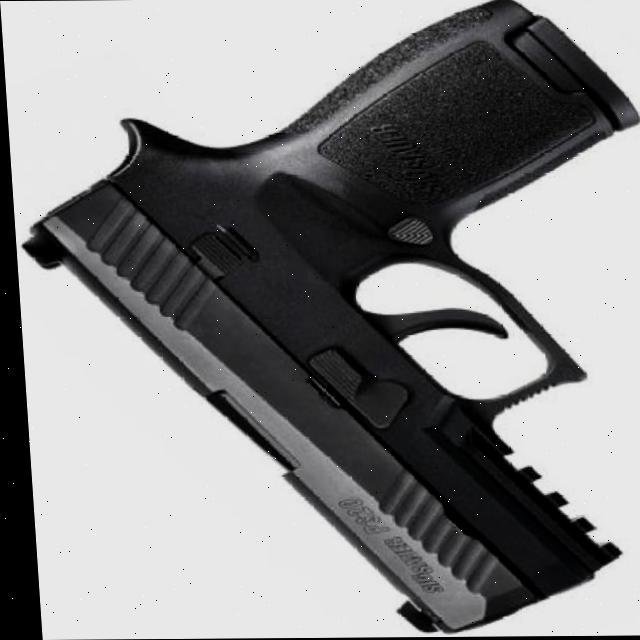gun: (3, 0, 640, 638)
